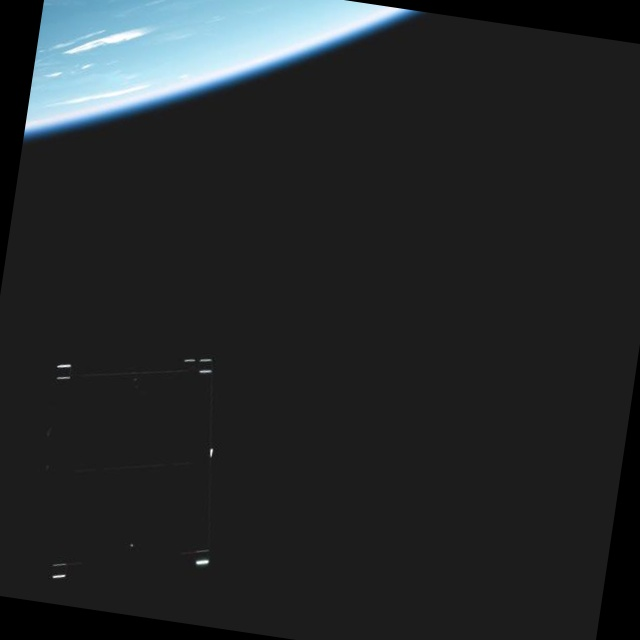satellite: (17, 337, 258, 605)
